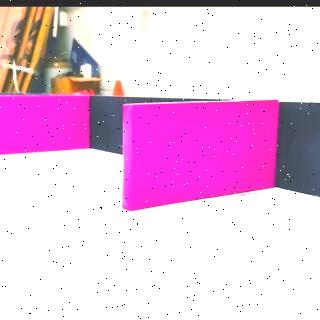xparking: (121, 104, 276, 190), (0, 94, 89, 147)
